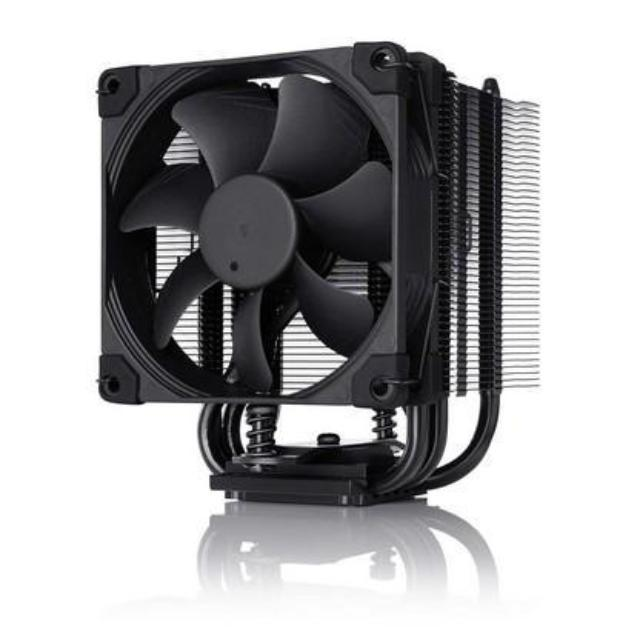CPU_Fan: (94, 36, 546, 507)
